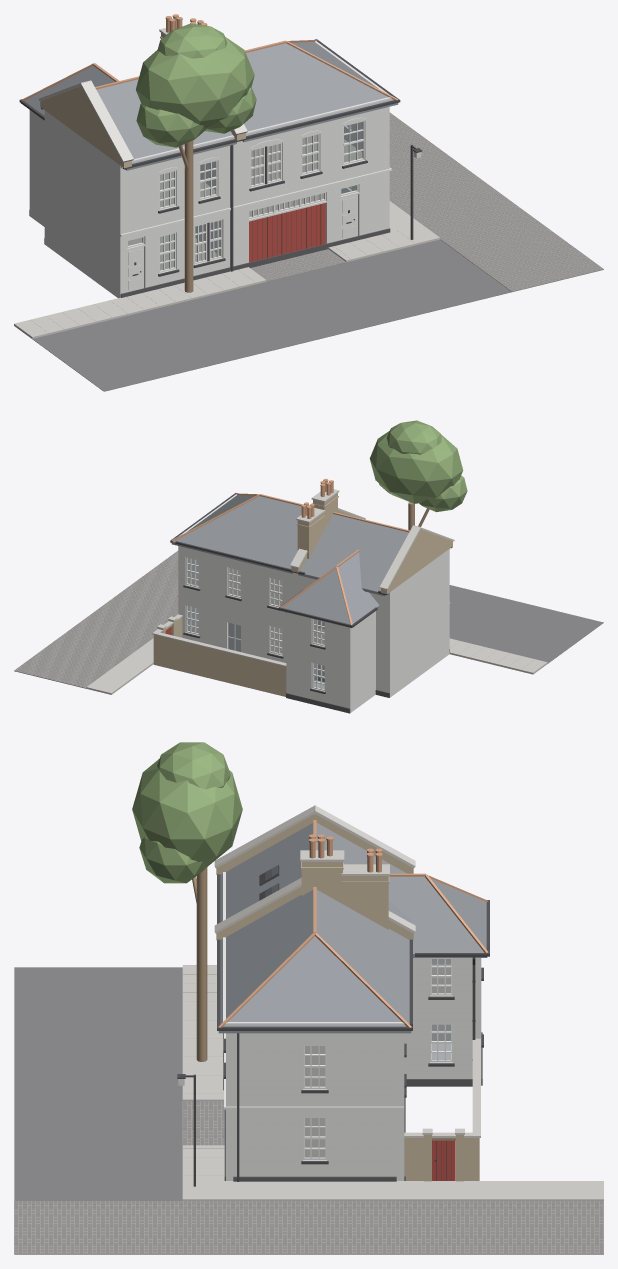
Rendered from clay-mews-coach-house-clay-v006.glb.
3 views of the same model, one above another, from view 1: azimuth 30°, elevation 25°; view 2: azimuth 150°, elevation 25°; view 3: azimuth 270°, elevation 25° (orthographic). The views are drawn at different scales.
Visible parts, largest first — view 1: CLAY_WALL, CLAY_ASPHALT, CLAY_SETTS, CLAY_ROOF, CLAY_PLANTING, CLAY_SETTJOINT, CLAY_PAVING, CLAY_TRIM, CLAY_HARDWARE, CLAY_JOINT, CLAY_GLASS, CLAY_DOOR (+8 smaller); view 2: CLAY_WALL, CLAY_ROOF, CLAY_SETTS, CLAY_BRICK, CLAY_ASPHALT, CLAY_PLANTING, CLAY_SETTJOINT, CLAY_PAVING, CLAY_TRIM, CLAY_STONE, CLAY_GLASS, CLAY_POT (+3 smaller); view 3: CLAY_ASPHALT, CLAY_SETTS, CLAY_ROOF, CLAY_WALL, CLAY_PAVING, CLAY_SETTJOINT, CLAY_PLANTING, CLAY_BRICK, CLAY_JOINT, CLAY_STONE, CLAY_HARDWARE, CLAY_TRIM (+7 smaller).
Part boxes in pixels (x1=…): CLAY_WALL: x1=29, y1=107, x2=389, y2=298; CLAY_ASPHALT: x1=32, y1=239, x2=511, y2=391; CLAY_SETTS: x1=250, y1=112, x2=603, y2=292; CLAY_ROOF: x1=24, y1=42, x2=398, y2=170; CLAY_PLANTING: x1=136, y1=23, x2=256, y2=147; CLAY_SETTJOINT: x1=14, y1=114, x2=603, y2=336; CLAY_PAVING: x1=14, y1=201, x2=440, y2=338; CLAY_TRIM: x1=120, y1=117, x2=391, y2=290; CLAY_HARDWARE: x1=19, y1=39, x2=422, y2=276; CLAY_JOINT: x1=121, y1=108, x2=389, y2=290; CLAY_GLASS: x1=128, y1=122, x2=362, y2=270; CLAY_DOOR: x1=249, y1=203, x2=325, y2=262; CLAY_WALL: x1=178, y1=546, x2=449, y2=712; CLAY_ROOF: x1=171, y1=495, x2=408, y2=628; CLAY_SETTS: x1=14, y1=551, x2=178, y2=688; CLAY_BRICK: x1=153, y1=493, x2=452, y2=696; CLAY_ASPHALT: x1=449, y1=585, x2=603, y2=663; CLAY_PLANTING: x1=369, y1=420, x2=467, y2=512; CLAY_SETTJOINT: x1=15, y1=551, x2=546, y2=687; CLAY_PAVING: x1=86, y1=638, x2=547, y2=694; CLAY_TRIM: x1=177, y1=557, x2=450, y2=690; CLAY_STONE: x1=152, y1=489, x2=454, y2=666; CLAY_GLASS: x1=187, y1=558, x2=324, y2=688; CLAY_POT: x1=172, y1=478, x2=409, y2=625; CLAY_ASPHALT: x1=14, y1=967, x2=182, y2=1200; CLAY_SETTS: x1=14, y1=1101, x2=603, y2=1254; CLAY_ROOF: x1=218, y1=823, x2=487, y2=1033; CLAY_WALL: x1=226, y1=958, x2=481, y2=1180; CLAY_PAVING: x1=182, y1=965, x2=603, y2=1200; CLAY_SETTJOINT: x1=14, y1=965, x2=603, y2=1253; CLAY_PLANTING: x1=132, y1=742, x2=242, y2=883; CLAY_BRICK: x1=216, y1=814, x2=479, y2=1181; CLAY_JOINT: x1=234, y1=959, x2=472, y2=1172; CLAY_STONE: x1=214, y1=805, x2=480, y2=1137; CLAY_HARDWARE: x1=177, y1=865, x2=489, y2=1186; CLAY_TRIM: x1=224, y1=958, x2=452, y2=1159.
Bounding box in the file's own units: 28.21 × 14.5 × 24.51.
